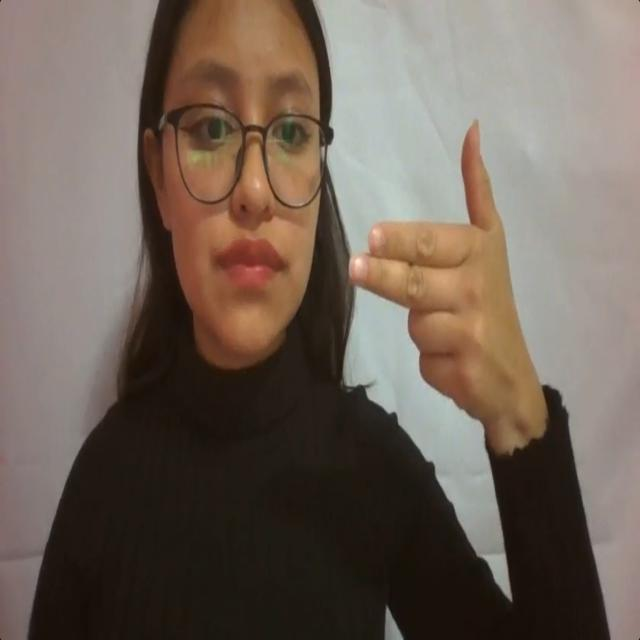H: (342, 117, 563, 430)
